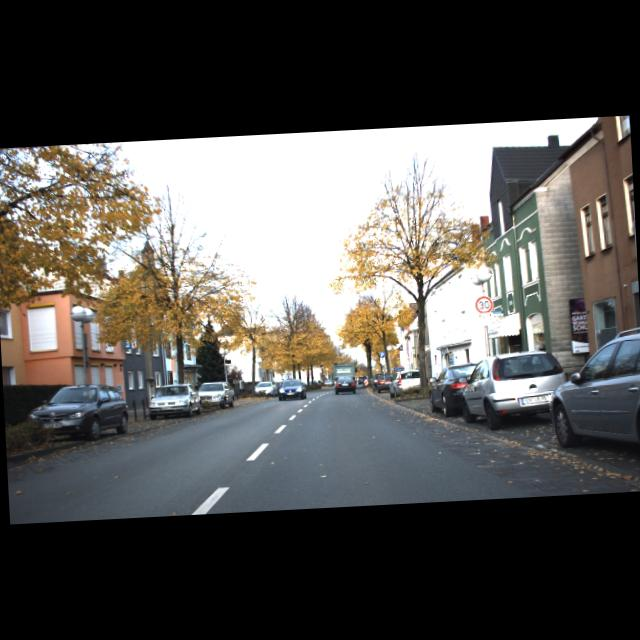prohibitory: (475, 296, 494, 314)
